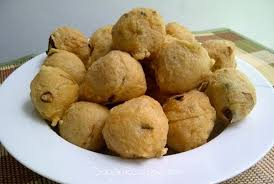Pempek adaan: (101, 95, 170, 157), (152, 34, 213, 94), (84, 49, 148, 105), (165, 87, 215, 155), (28, 63, 81, 124), (109, 5, 167, 59), (209, 69, 257, 126), (59, 101, 108, 150), (46, 23, 95, 60), (39, 48, 89, 76), (204, 36, 239, 74), (85, 21, 117, 58)
